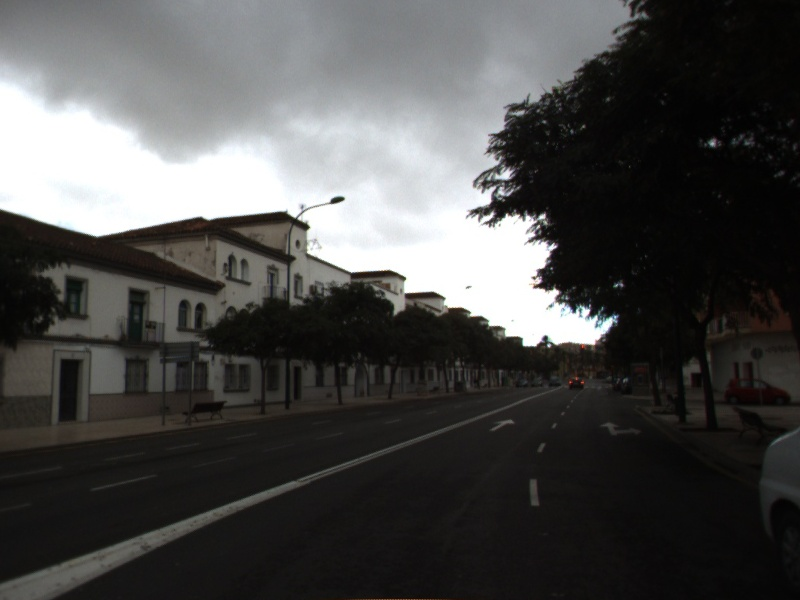STRAIGHT: (487, 417, 517, 433)
STRAIGHT_RIGHT: (598, 420, 643, 437)
